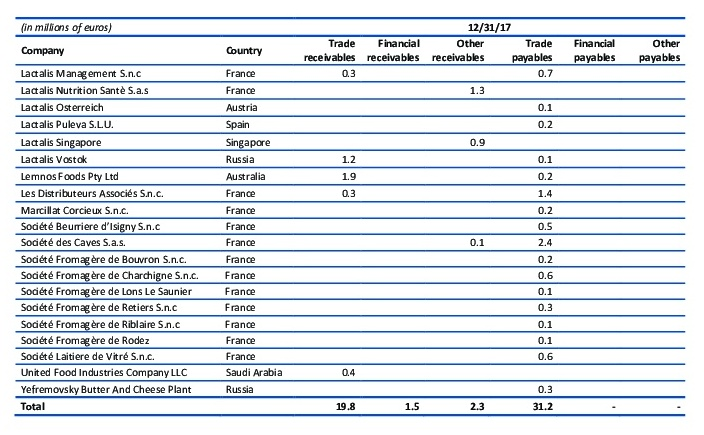table: (0, 0, 704, 435)
